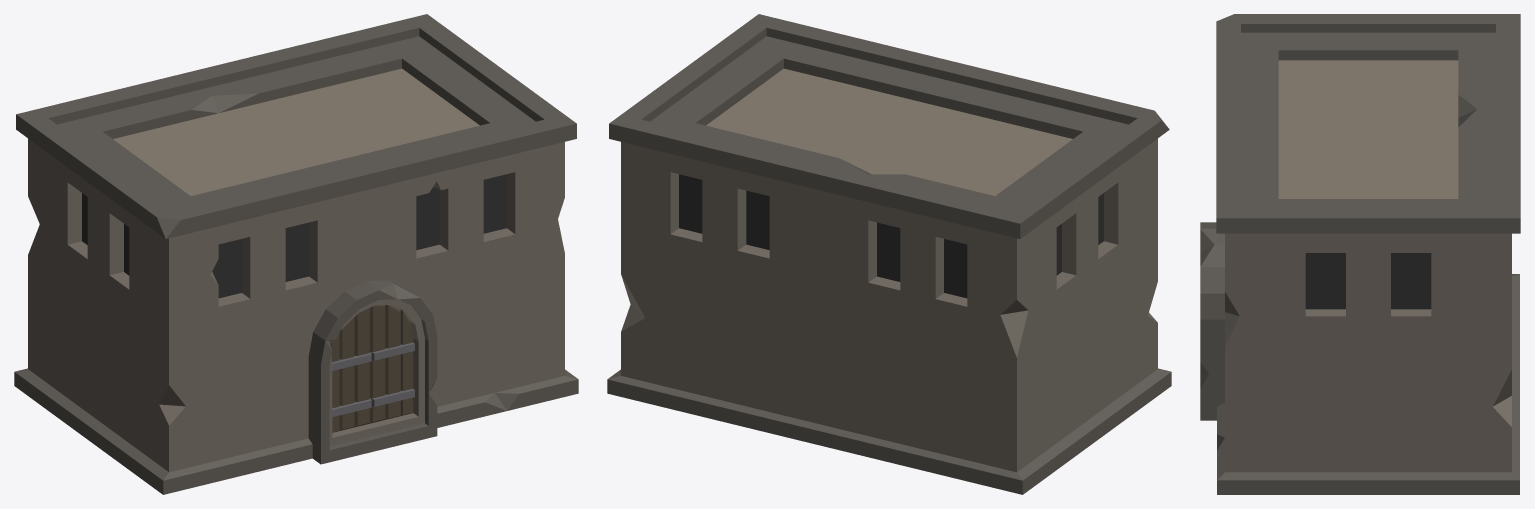
The model's file is SM_Bld_Fort_Room_01.glb.
The picture shows the model from 3 angles, left to right: view 1: azimuth 30°, elevation 25°; view 2: azimuth 150°, elevation 25°; view 3: azimuth 270°, elevation 25°; orthographic projection.
Parts seen in each view (by area): view 1: SM_Bld_Fort_Room_01_part00; view 2: SM_Bld_Fort_Room_01_part00; view 3: SM_Bld_Fort_Room_01_part00.
Boxes of the visible parts, x1,y1,x2,y2 form: SM_Bld_Fort_Room_01_part00: [14, 14, 578, 494]; SM_Bld_Fort_Room_01_part00: [607, 14, 1171, 494]; SM_Bld_Fort_Room_01_part00: [1200, 14, 1520, 494].
Bounding box in the file's own units: 10.61 × 6.61 × 6.97.
1 material, 1 textured.
